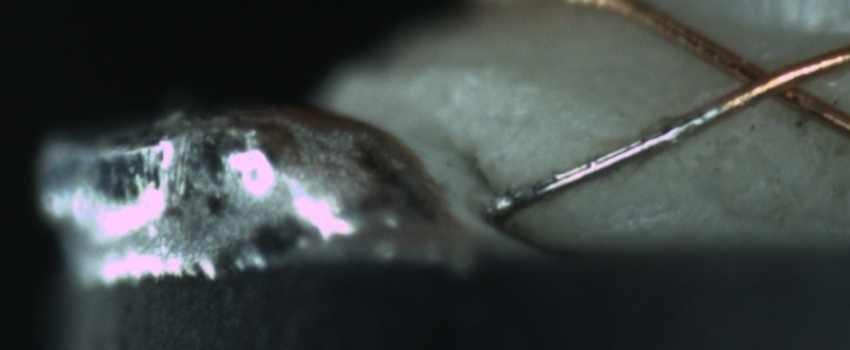CL: (717, 47, 824, 116)
DL: (554, 118, 648, 162)
TS: (483, 97, 721, 222)
